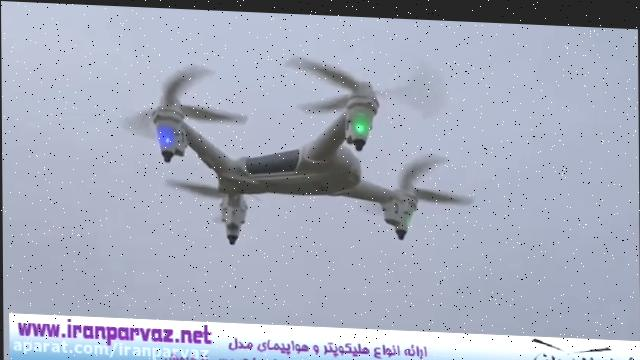drone: (117, 35, 477, 254)
